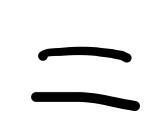eqv: (31, 47, 140, 112)
